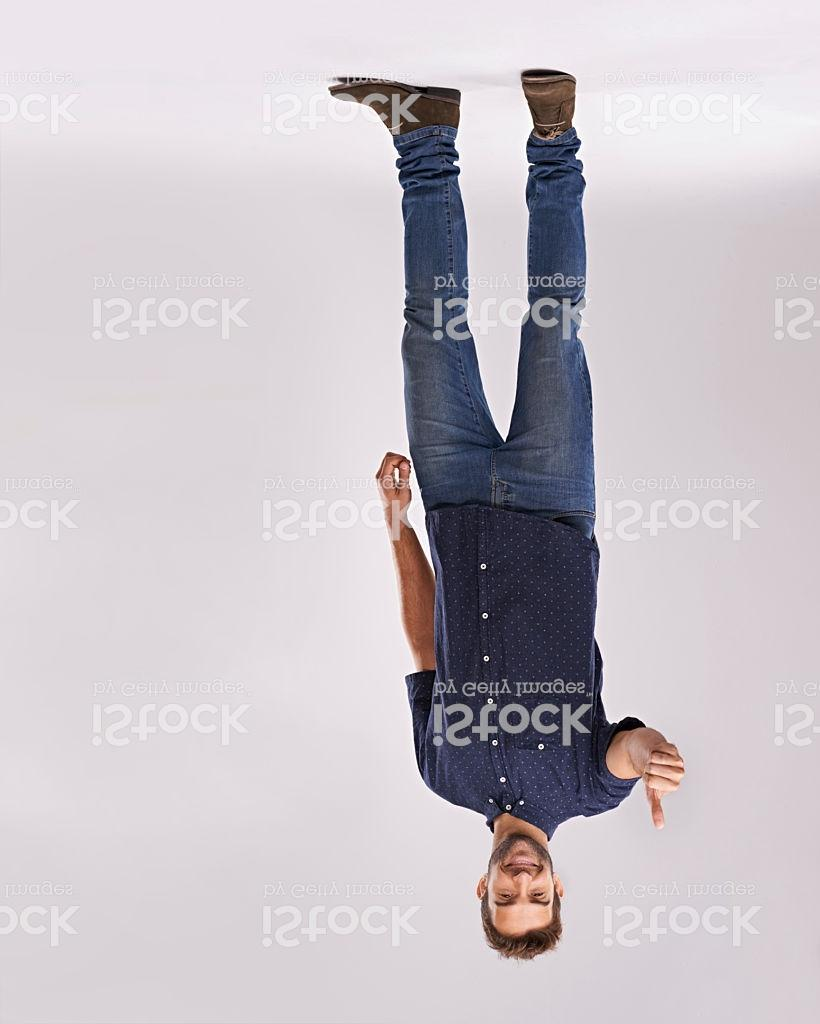thumbsdown: (642, 741, 686, 831)
